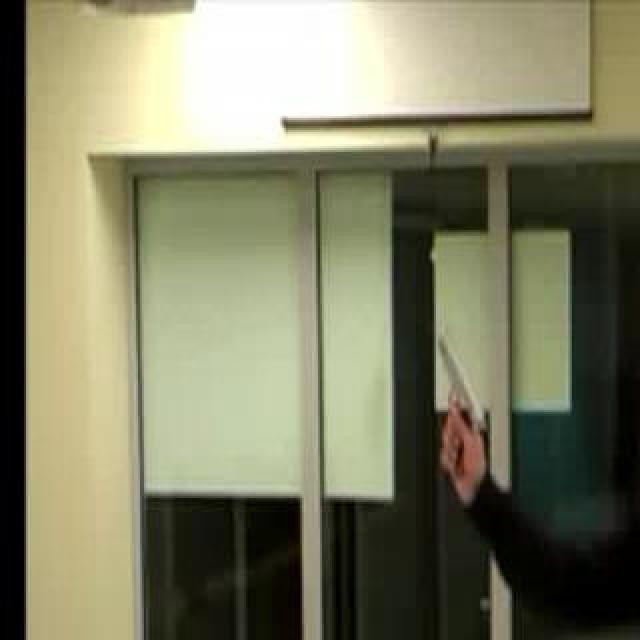Guns: (424, 323, 490, 463)
